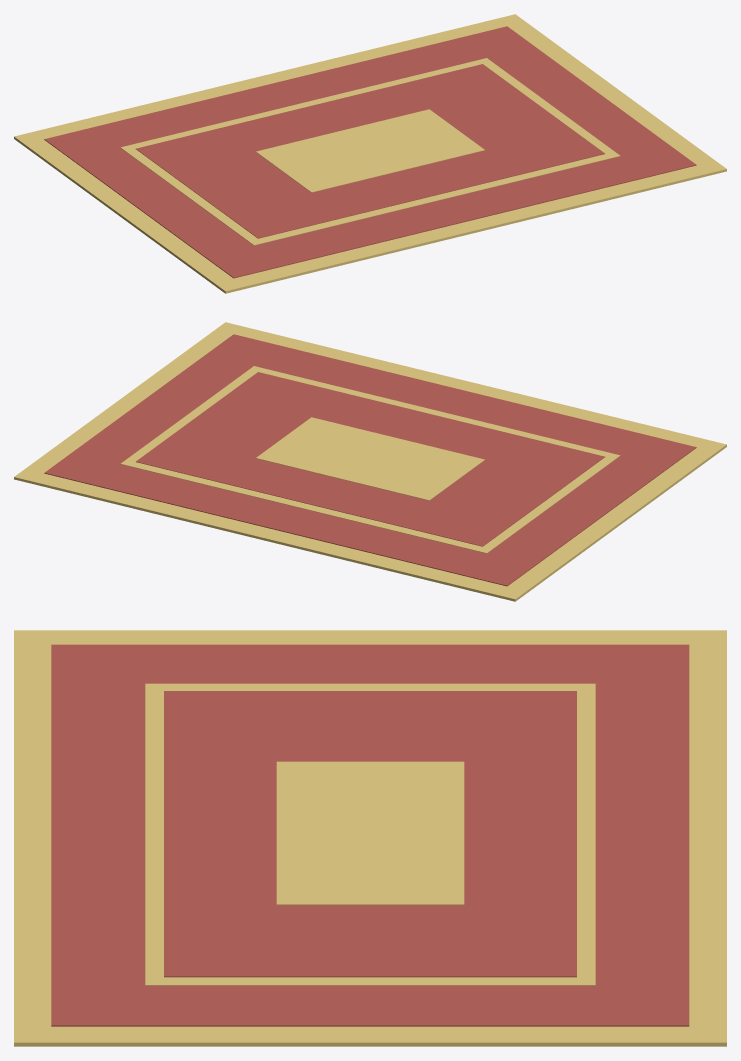
Rendered from kajuete_teppich.glb.
The picture shows the model from 3 angles, top to bottom: view 1: azimuth 30°, elevation 25°; view 2: azimuth 150°, elevation 25°; view 3: azimuth 270°, elevation 25°; orthographic projection. The views are drawn at different scales.
Visible parts, largest first — view 1: G_kajuete_teppich; view 2: G_kajuete_teppich; view 3: G_kajuete_teppich.
Part boxes in pixels (x1,y1,x2,y2): G_kajuete_teppich: (14,14,726,293); G_kajuete_teppich: (14,322,726,601); G_kajuete_teppich: (14,630,726,1046).
Bounding box in the file's own units: 2.6 × 0.0221 × 1.9.
